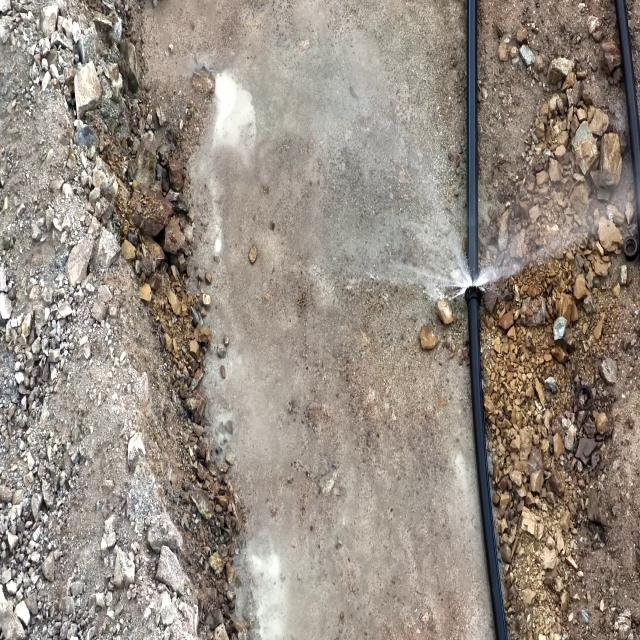leak: (373, 172, 546, 306)
